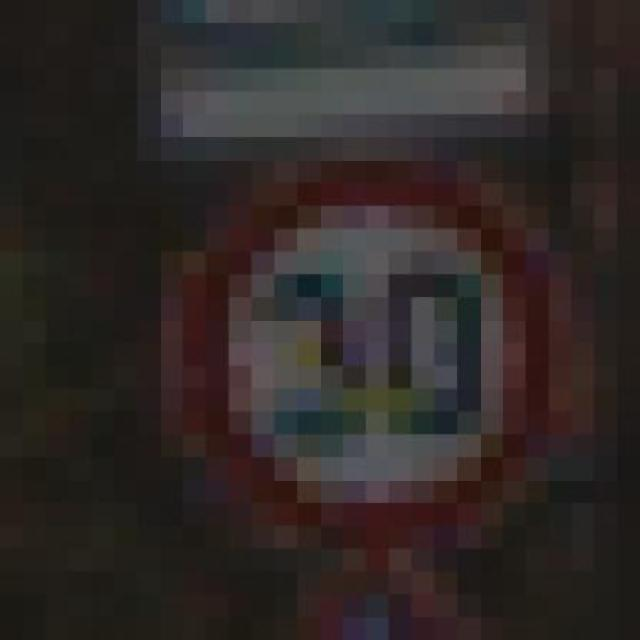Speed Limit 30 KMPh: (137, 137, 617, 572)
